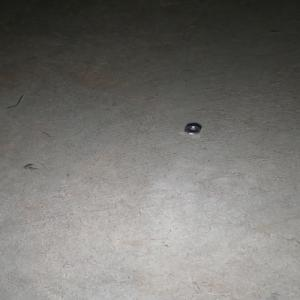Nut: (183, 124, 202, 135)
